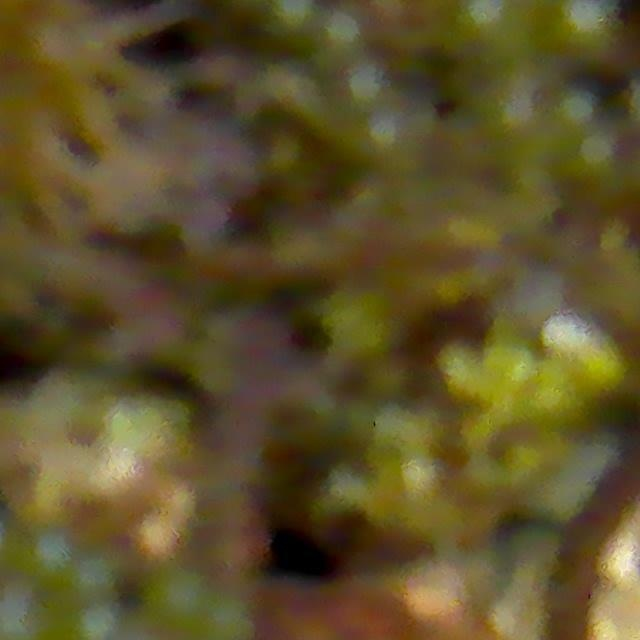SeaGrape: (143, 560, 215, 631), (26, 529, 76, 584), (63, 601, 125, 640), (268, 0, 318, 35)
